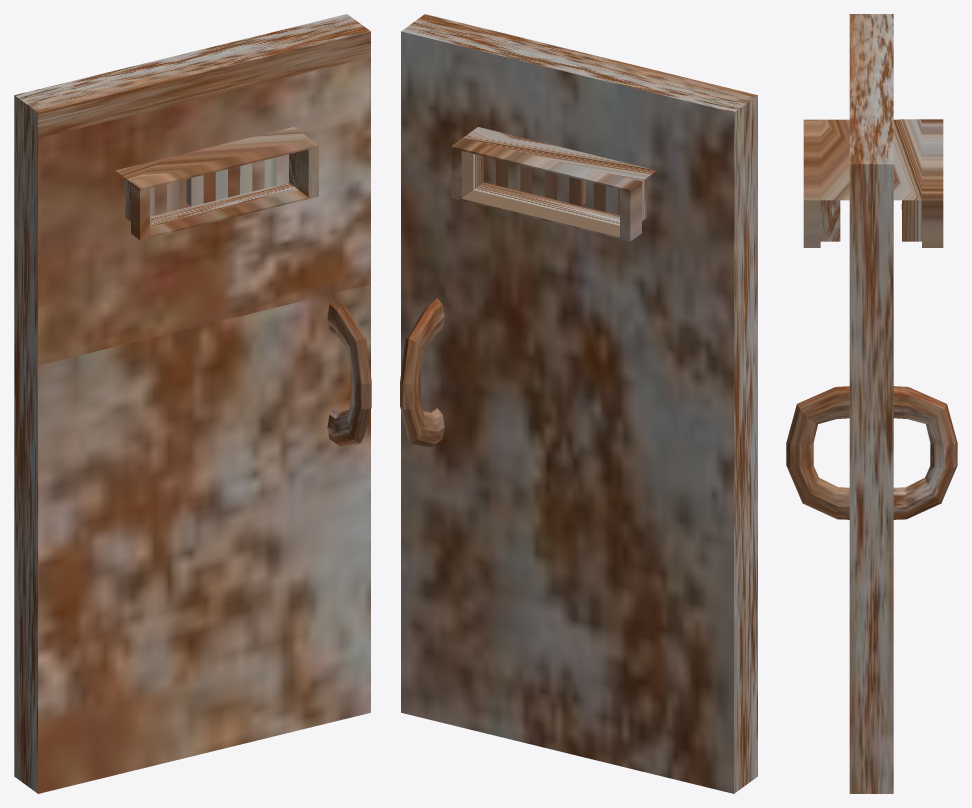
File: Door_reinforced_metal.fbx
3 views of the same model, side by side, from view 1: azimuth 30°, elevation 25°; view 2: azimuth 150°, elevation 25°; view 3: azimuth 270°, elevation 25° (orthographic). The views are drawn at different scales.
Visible parts, largest first — view 1: Cube.003, Cylinder.001; view 2: Cube.003, Cylinder.001; view 3: Cube.003, Cylinder.001.
Boxes of the visible parts, x1,y1,x2,y2 form: Cube.003: (14,14,370,793); Cylinder.001: (327,298,371,447); Cube.003: (401,14,757,793); Cylinder.001: (400,298,444,447); Cube.003: (803,14,943,793); Cylinder.001: (786,386,957,519).
Bounding box in the file's own units: 538 × 1051 × 259.
2 materials, 2 textured.
